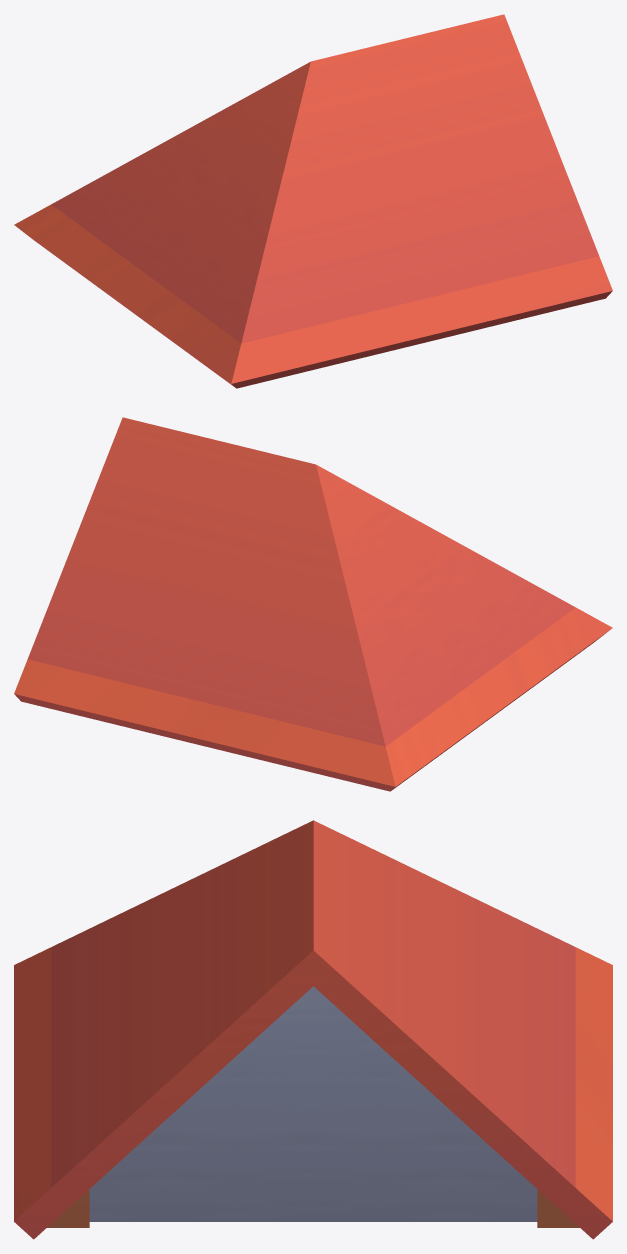
Rendered from roofGableEnd.fbx.
3 views of the same model, one above another, from view 1: azimuth 30°, elevation 25°; view 2: azimuth 150°, elevation 25°; view 3: azimuth 270°, elevation 25° (orthographic). The views are drawn at different scales.
Visible parts, largest first — view 1: roofGableEnd; view 2: roofGableEnd; view 3: roofGableEnd.
Part boxes in pixels (box(x1,y1,x2,y2)): roofGableEnd: box(14, 14, 612, 388); roofGableEnd: box(14, 417, 612, 791); roofGableEnd: box(14, 820, 612, 1239).
Size of the model in its own units: 1.09 by 1.07 by 0.5707.
